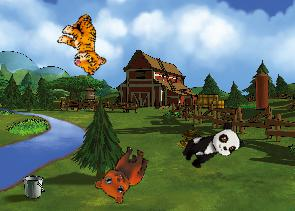bear: (91, 138, 152, 207)
panda: (178, 119, 245, 174)
tiger: (50, 9, 120, 78)
